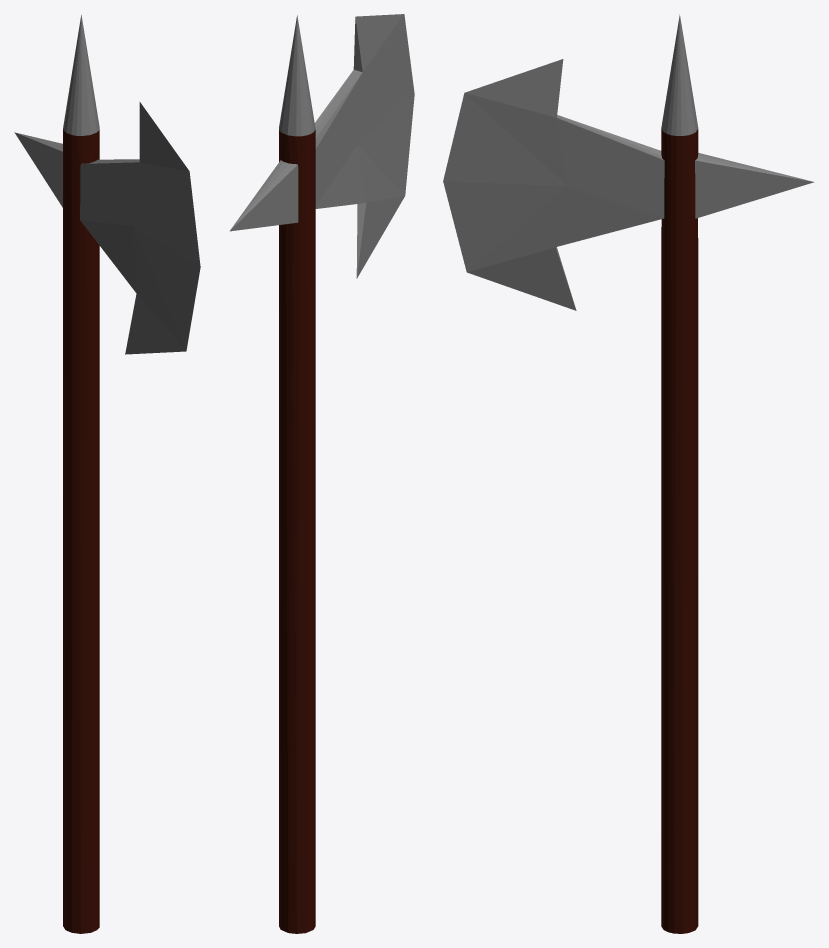
The model's file is S_Weapon_Axe.fbx.
3 views of the same model, side by side, from view 1: azimuth 30°, elevation 25°; view 2: azimuth 150°, elevation 25°; view 3: azimuth 270°, elevation 25° (orthographic).
Visible parts, largest first — view 1: Cylinder; view 2: Cylinder; view 3: Cylinder.
Part boxes in pixels (left/top/right/bottom): Cylinder: left=14, top=15, right=200, bottom=933; Cylinder: left=230, top=14, right=414, bottom=933; Cylinder: left=443, top=14, right=814, bottom=933.
Bounding box in the file's own units: 40.55 × 4.02 × 110.
